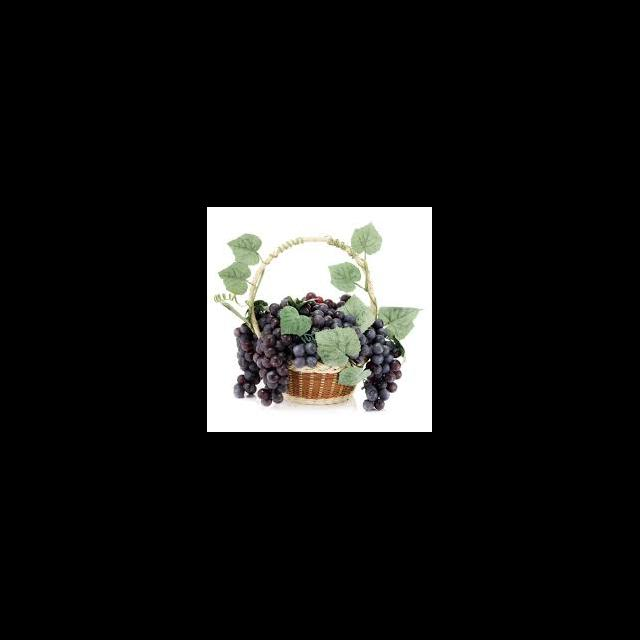grape: (356, 318, 404, 412)
